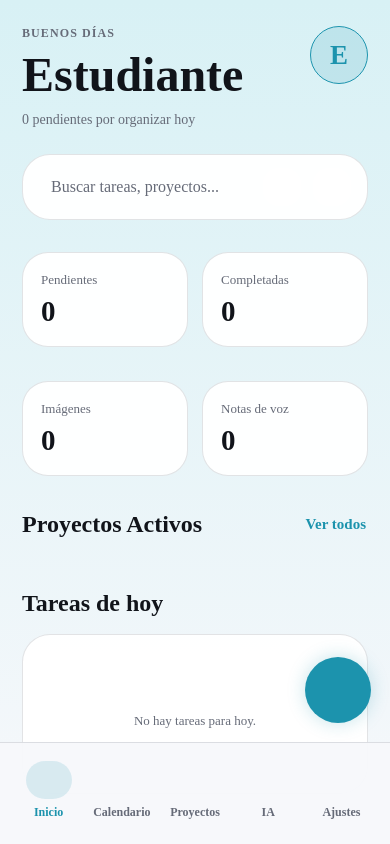
Test case: Navigation › navigates to Calendar tab
The width and height of the screenshot is (390, 844).
Click the tab with aria-label "Pestaña Calendario" at (122, 812), box [93,805,150,819]
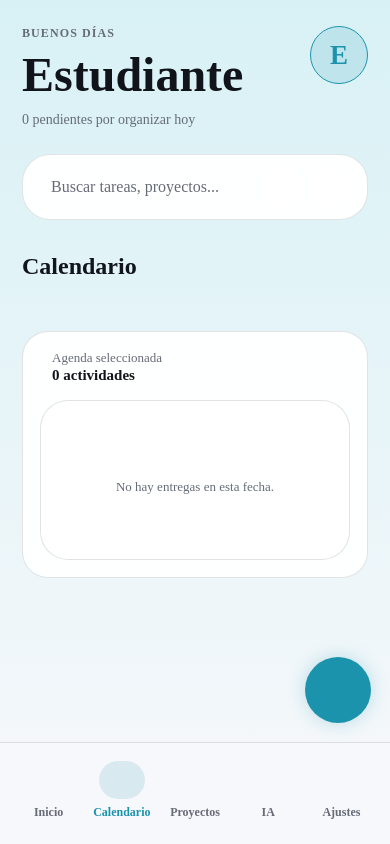
Result: the text "Calendario" is shown 2 times at [22,252,137,280]; [93,805,150,820]
Result: the text "Tareas de hoy" is gone
